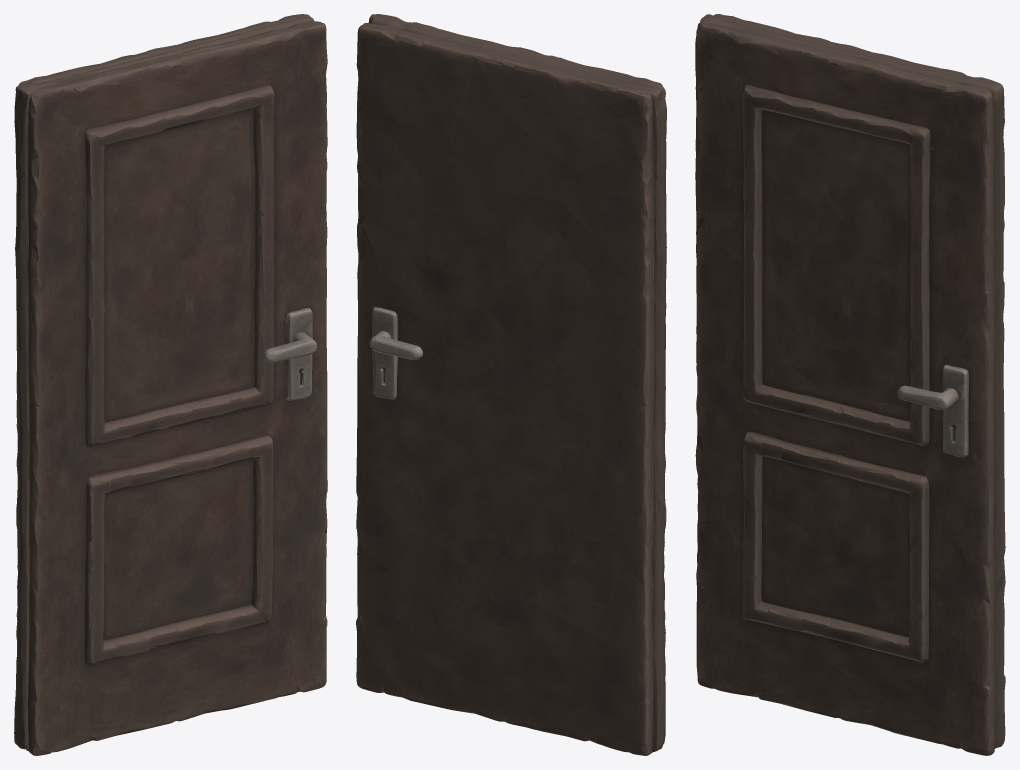
Rendered from porta_marrone.glb.
3 renders of one model, left to right at view 1: azimuth 30°, elevation 25°; view 2: azimuth 150°, elevation 25°; view 3: azimuth 330°, elevation 25°, orthographic.
Visible parts, largest first — view 1: Mesh_0; view 2: Mesh_0; view 3: Mesh_0.
Part boxes in pixels (<box>): Mesh_0: <box>14,14,327,755</box>; Mesh_0: <box>356,14,666,755</box>; Mesh_0: <box>695,14,1005,755</box>.
Size of the model in its own units: 0.9093 by 1.9 by 0.2483.
Materials: 1 (1 with a texture image).
